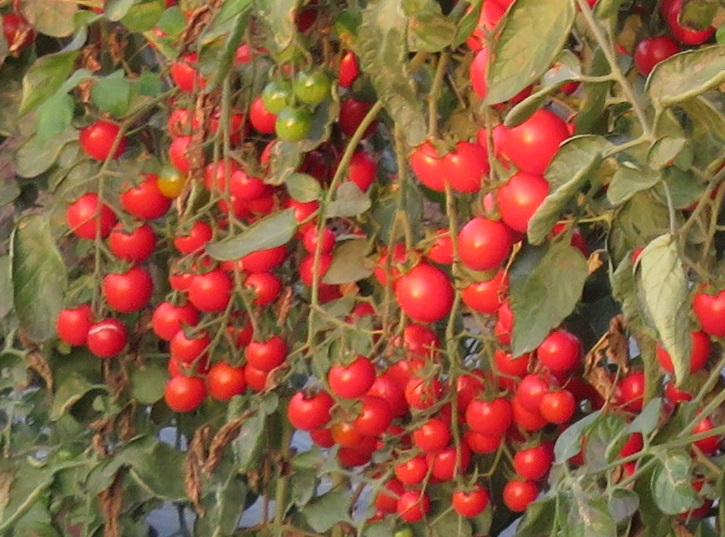green: (291, 69, 330, 109), (274, 107, 320, 140), (261, 81, 292, 116), (158, 166, 188, 194)
red: (499, 108, 564, 171), (395, 263, 454, 319), (457, 214, 509, 271), (498, 171, 545, 234), (99, 266, 154, 311), (538, 328, 588, 373), (76, 121, 132, 161), (442, 138, 485, 190), (468, 390, 516, 435), (67, 193, 115, 238), (326, 353, 376, 395), (107, 219, 156, 258), (121, 172, 162, 218), (287, 388, 331, 430), (170, 323, 214, 362), (350, 396, 394, 435), (462, 273, 509, 309), (152, 299, 194, 339), (189, 269, 233, 307), (246, 338, 292, 373), (54, 309, 94, 348), (88, 319, 126, 355), (164, 377, 204, 411), (515, 442, 554, 476), (242, 272, 284, 302), (451, 485, 488, 519), (503, 480, 540, 511), (543, 389, 578, 421), (414, 419, 449, 450), (210, 363, 238, 399), (227, 173, 261, 200), (467, 432, 503, 455), (327, 423, 358, 448)
